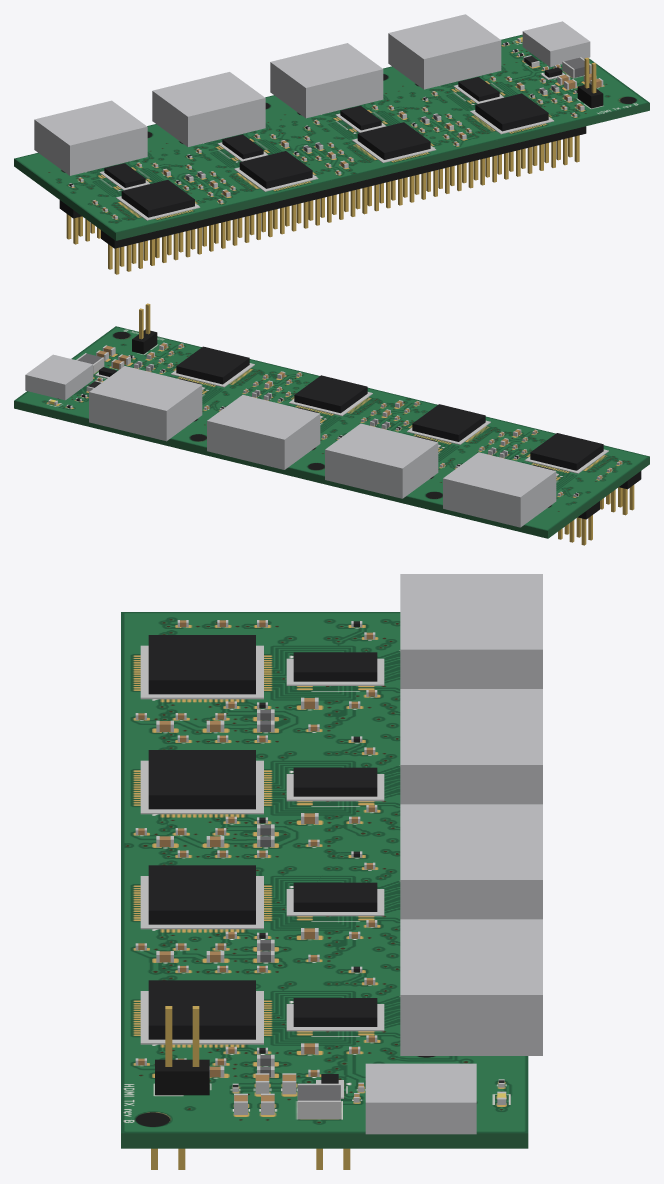
File: quad_hdmi_tx_simplified.obj
3 renders of one model, top to bottom at view 1: azimuth 30°, elevation 25°; view 2: azimuth 150°, elevation 25°; view 3: azimuth 270°, elevation 25°, orthographic. The views are drawn at different scales.
Size of the model in its own units: 115 by 18.6 by 39.36.
